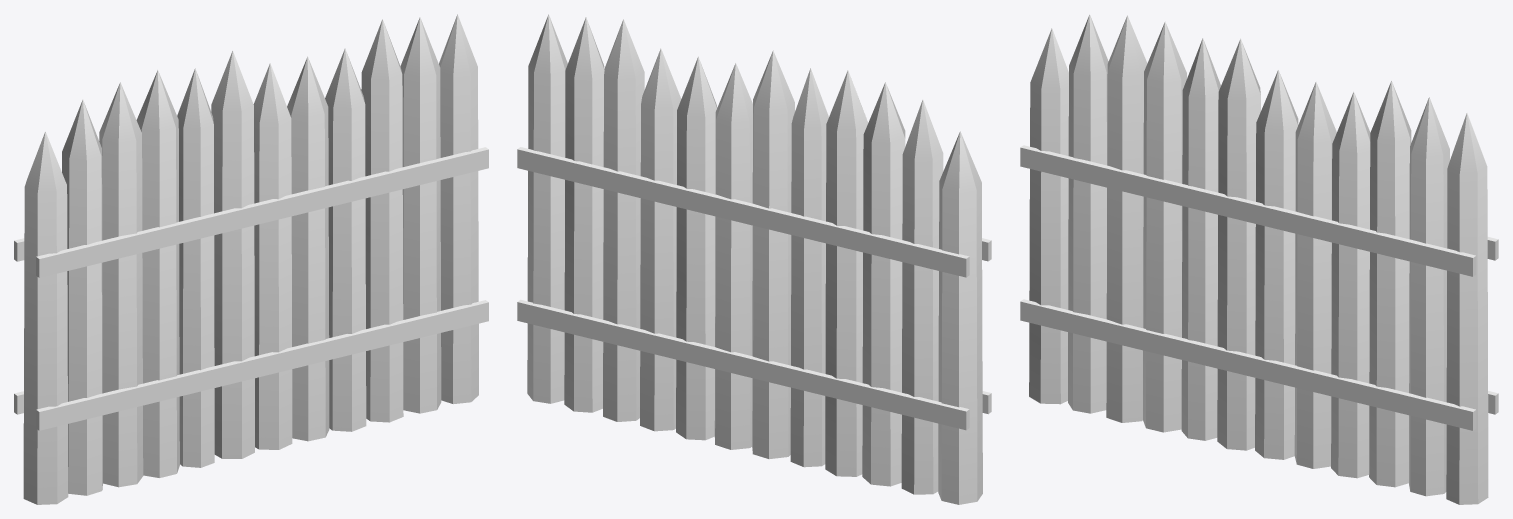
File: kargan_palisade.glb
3 views of the same model, side by side, from view 1: azimuth 30°, elevation 25°; view 2: azimuth 150°, elevation 25°; view 3: azimuth 330°, elevation 25° (orthographic).
Visible parts, largest first — view 1: kargan_palisade; view 2: kargan_palisade; view 3: kargan_palisade.
Boxes of the visible parts, x1,y1,x2,y2 form: kargan_palisade: [14, 14, 488, 504]; kargan_palisade: [517, 14, 991, 504]; kargan_palisade: [1020, 14, 1498, 504].
Size of the model in its own units: 4.01 by 3.4 by 0.39.
Materials: 1 (1 with a texture image).
